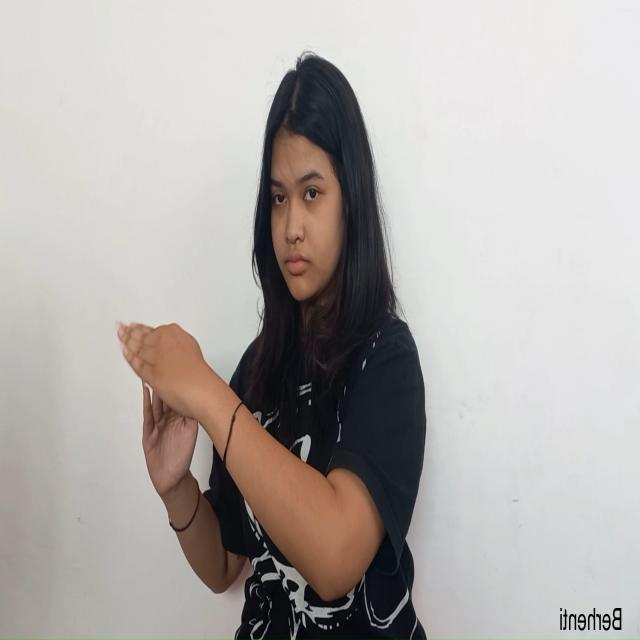Berhenti -BISINDO-: (112, 314, 211, 510)
